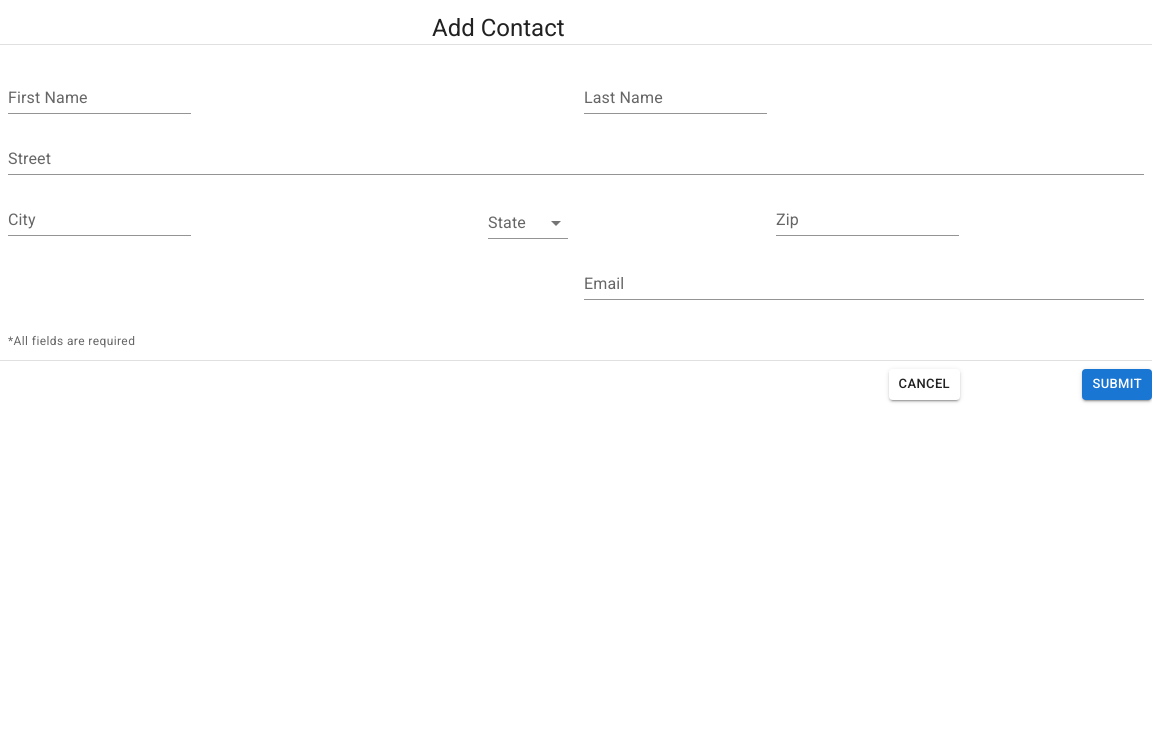
Test: Contact Form component › first name input validation
The image size is (1164, 732).
In the field labelled "First Name": (100, 100) x1=8 y1=85 x2=191 y2=114, type "123abc"
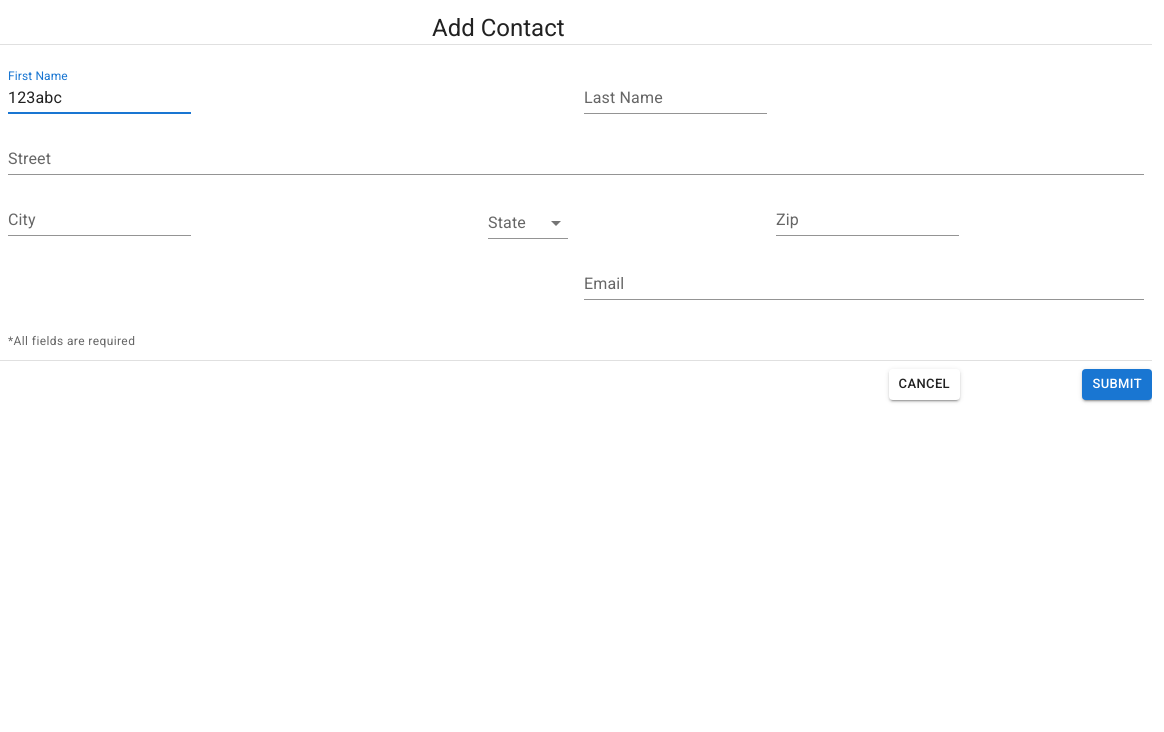
Click the button "Submit": click(1117, 384) x1=1082 y1=369 x2=1152 y2=400
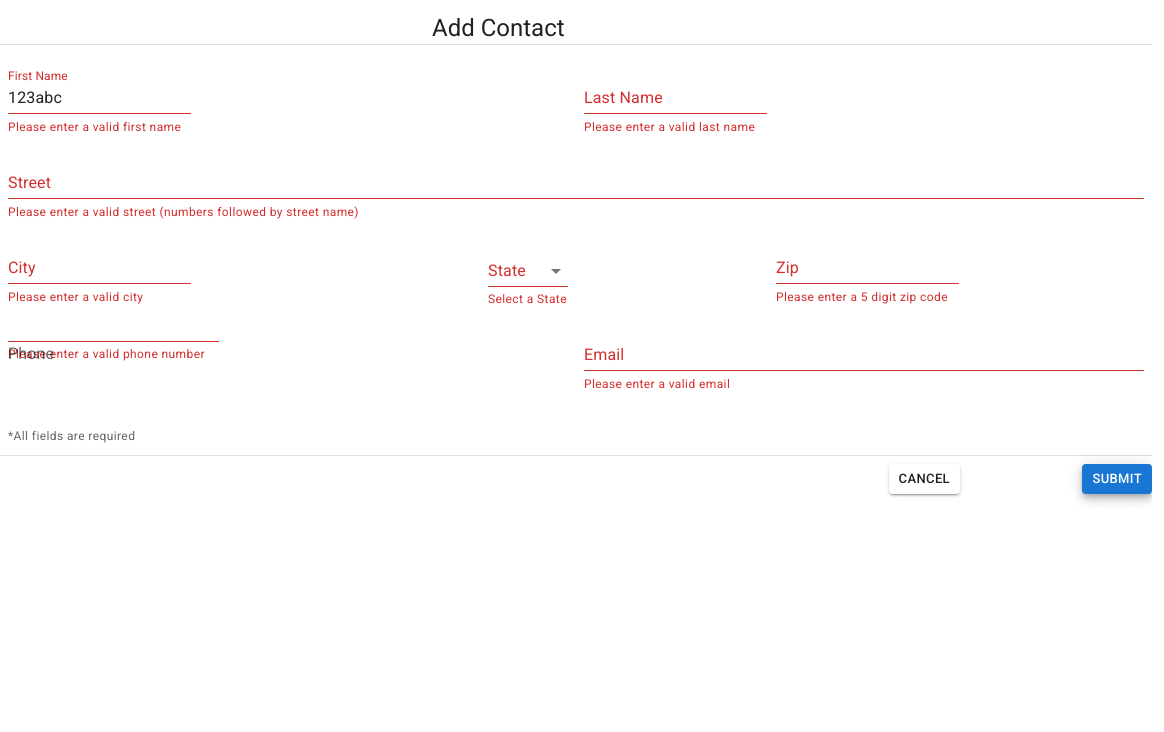
Expected: the text "Please enter a valid first name" is shown, x1=8 y1=118 x2=191 y2=138
Replace the text in the field labelled "First Name" with "Peter": (100, 100) x1=8 y1=85 x2=191 y2=114
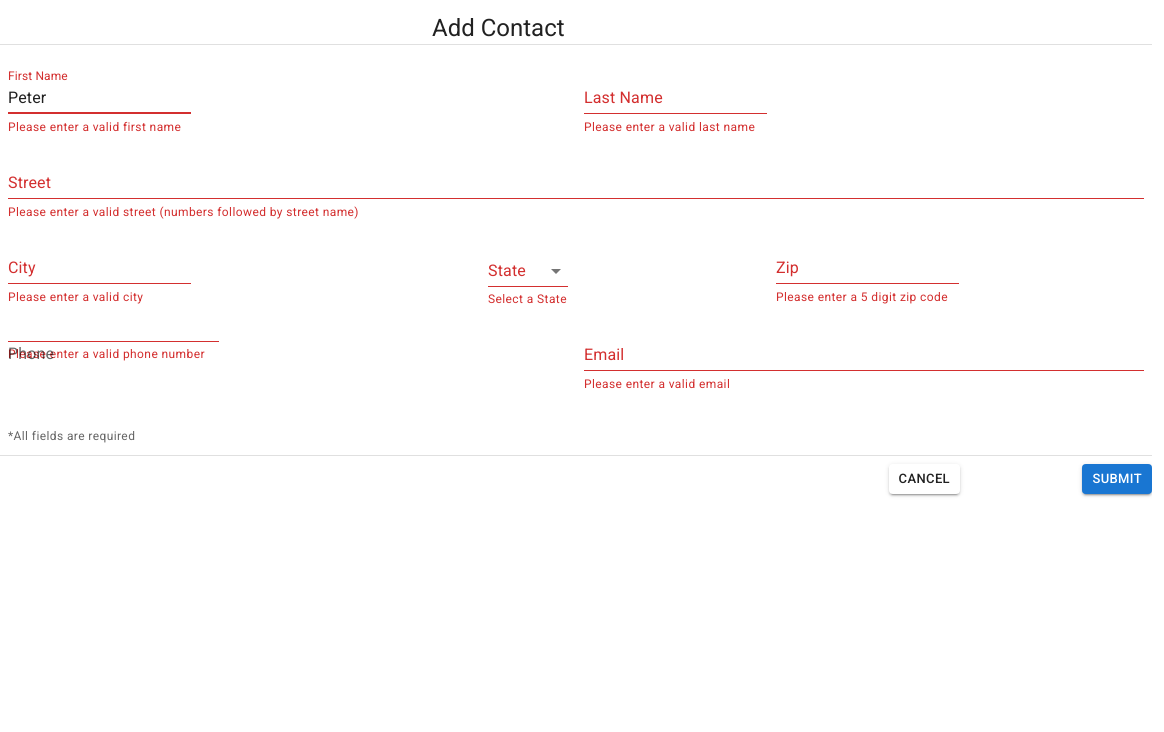
Click the button "Submit": click(1117, 479) x1=1082 y1=464 x2=1152 y2=494
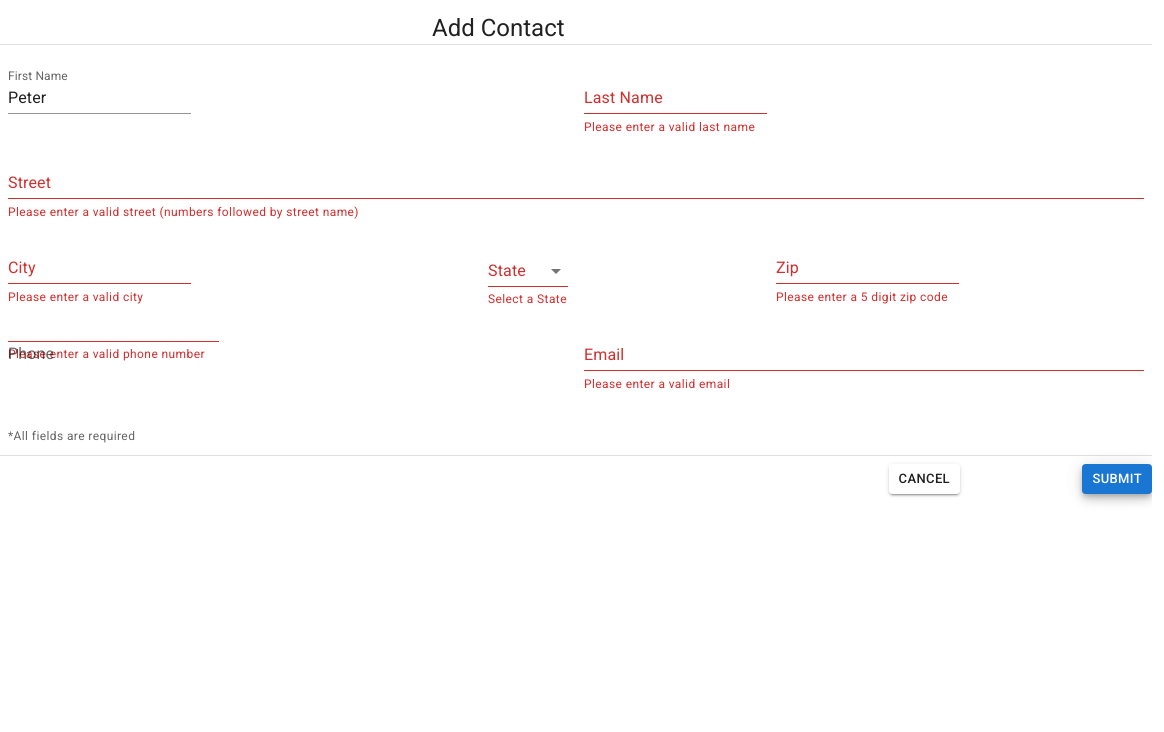
Expected: the text "Please enter a valid first name" is gone
